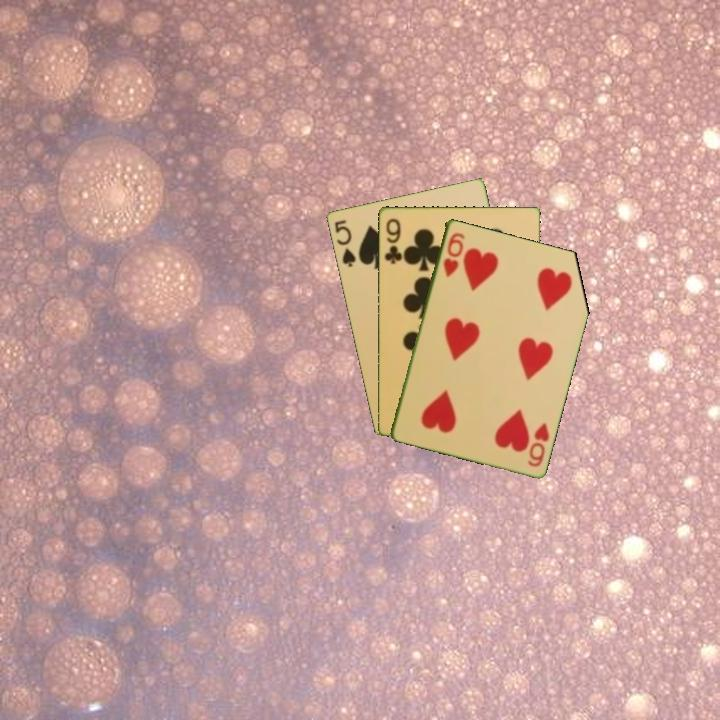5s: (330, 216, 358, 270)
6h: (439, 229, 467, 280), (524, 419, 552, 469)
9c: (381, 215, 404, 266)
